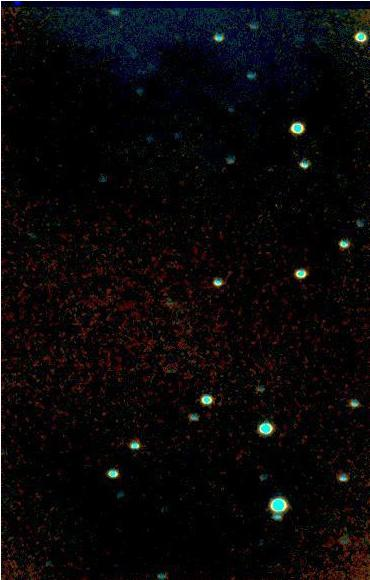star: (265, 186, 295, 216)
